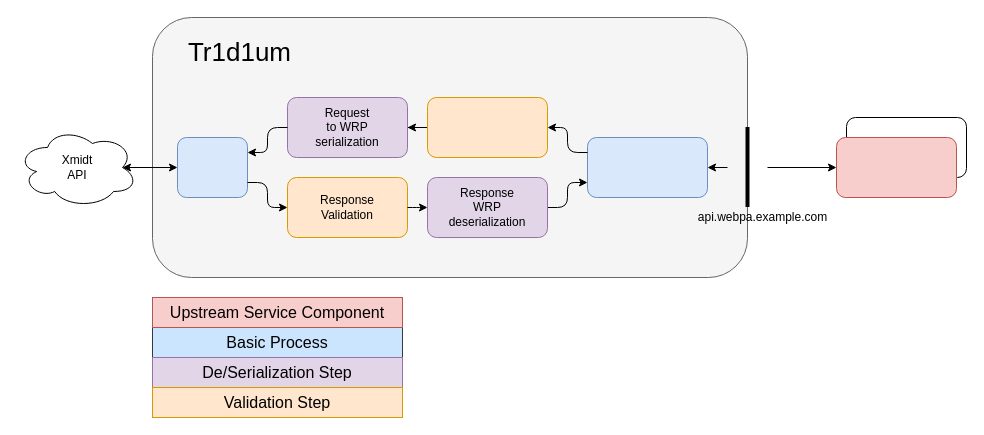
This 984x435 diagram has some shape labels left out. Here are the shapes that lost their labels. From the top down, the box of each, then its label:
(426, 96, 548, 158): Input Validation
(176, 136, 248, 198): HTTP Request
(586, 136, 708, 198): API HTTP Listener
(836, 136, 956, 198): Upstream Service
